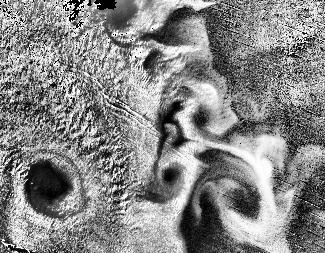AE: (16, 154, 86, 220), (210, 173, 279, 237)
CE: (155, 150, 199, 199)
